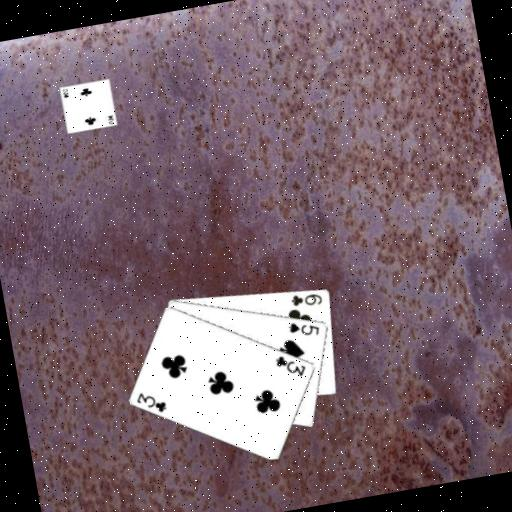3C: (271, 348, 308, 381), (132, 385, 169, 418)
5S: (285, 315, 322, 341)
6C: (287, 286, 325, 310)
